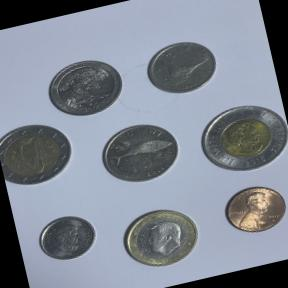coin: (187, 89, 288, 188), (88, 108, 192, 197), (111, 196, 211, 279), (38, 49, 130, 124), (0, 113, 82, 197), (213, 173, 288, 242), (29, 205, 102, 269)
